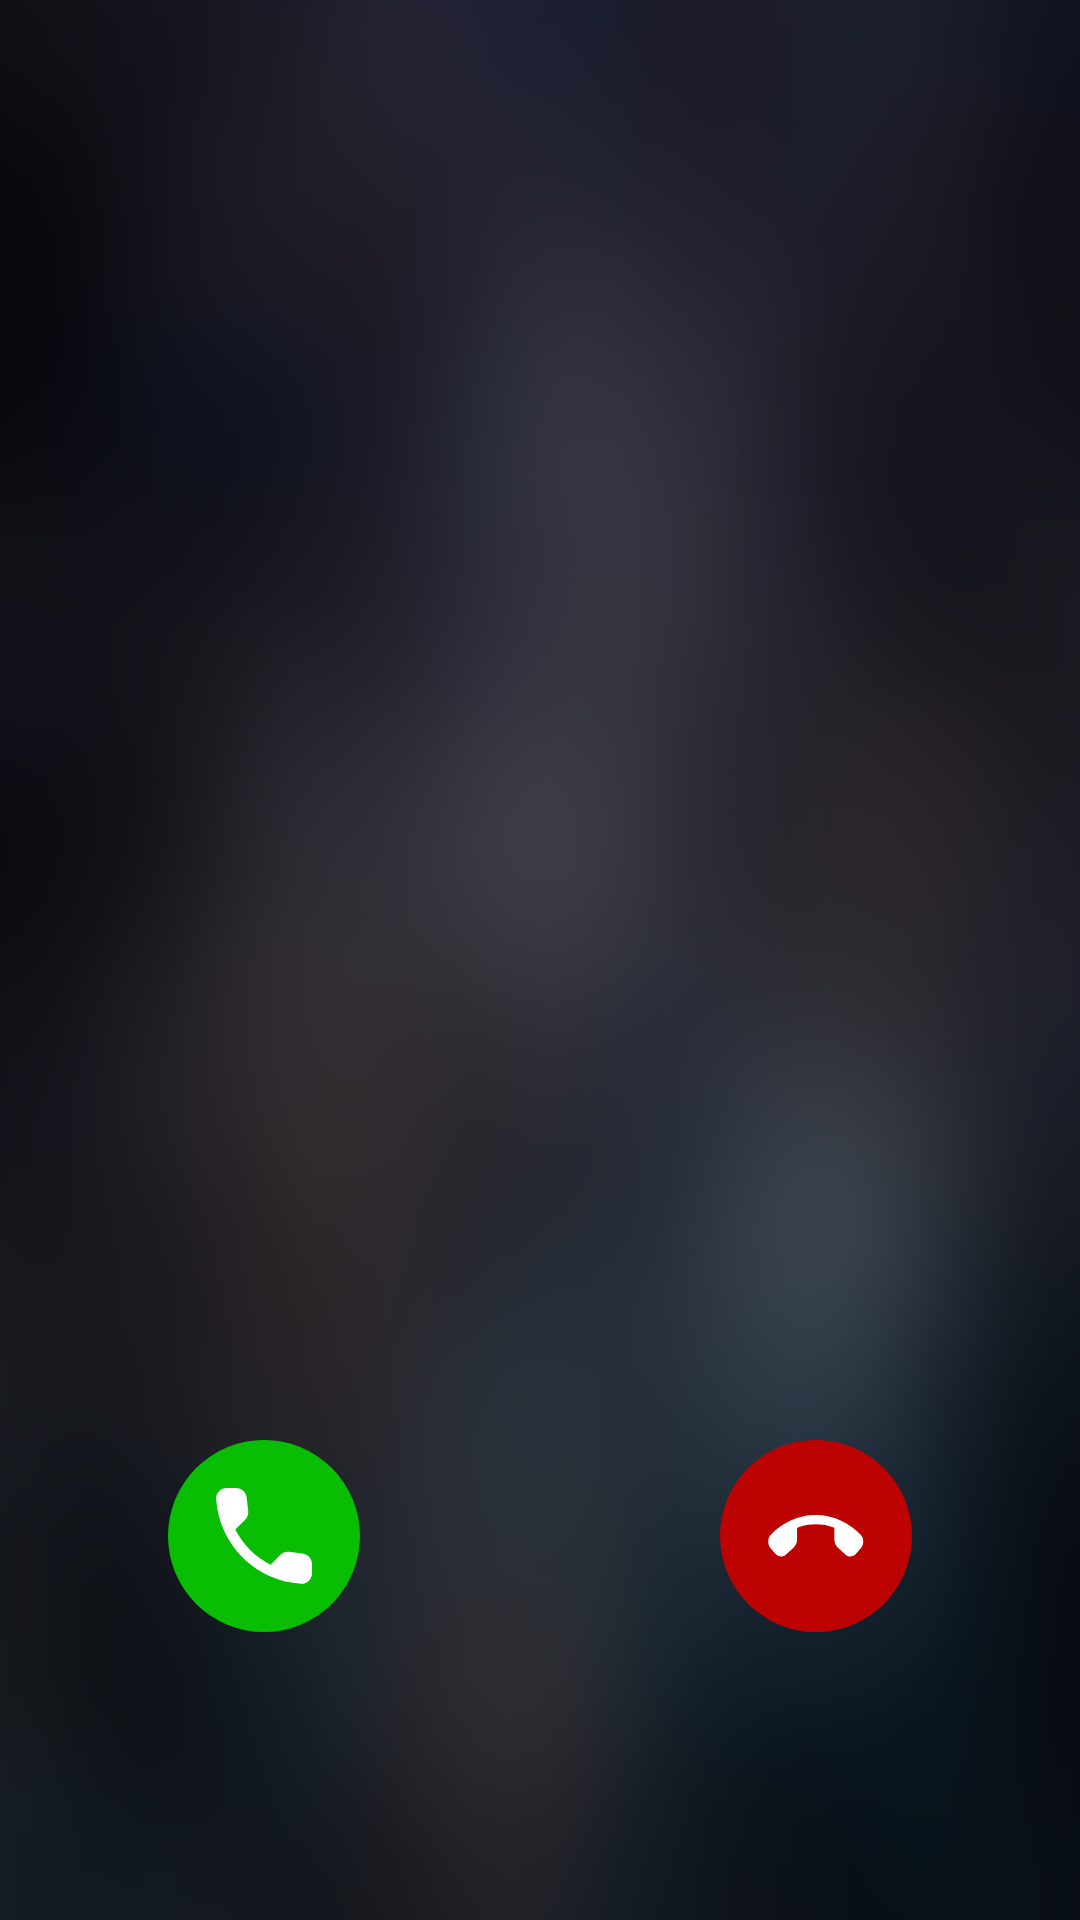

Icon click points for this 1080 x 1920 phone screenshot, format (x,y):
call: (264,1536)
end call: (816,1536)
